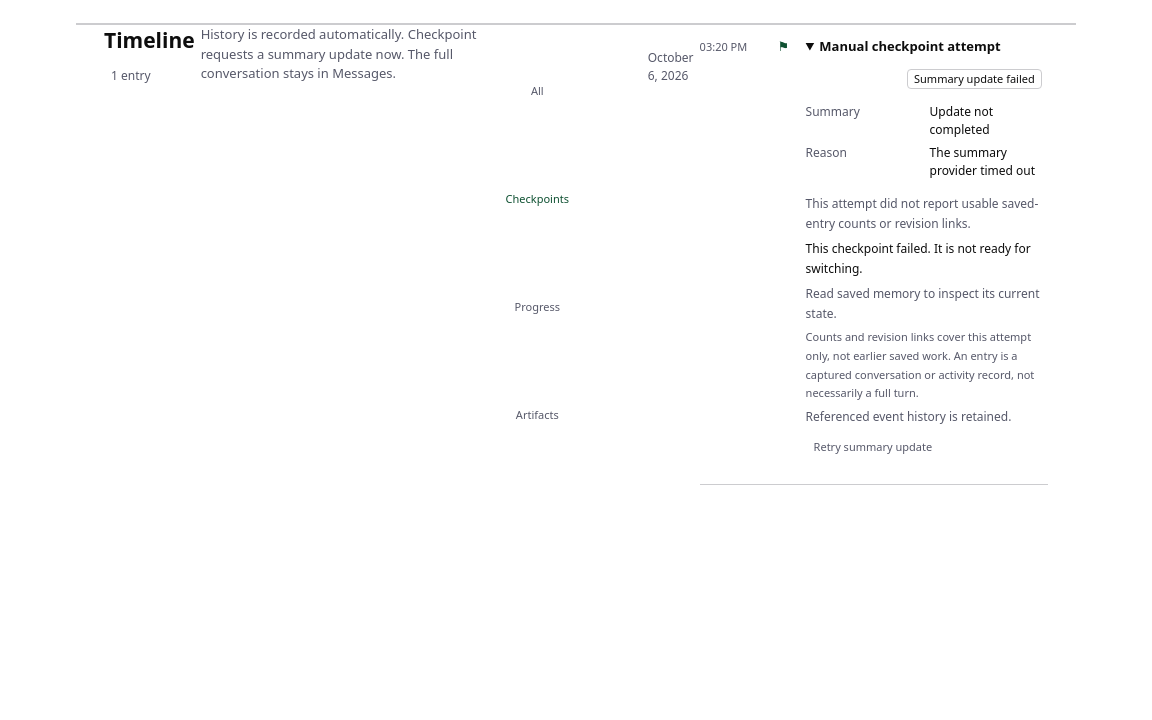
Test: keeps saved records and makes retry available after a transport failure
The image size is (1152, 720).
Click the button "Retry summary update" at (873, 450), box top-left (806, 438), bottom-right (940, 462)
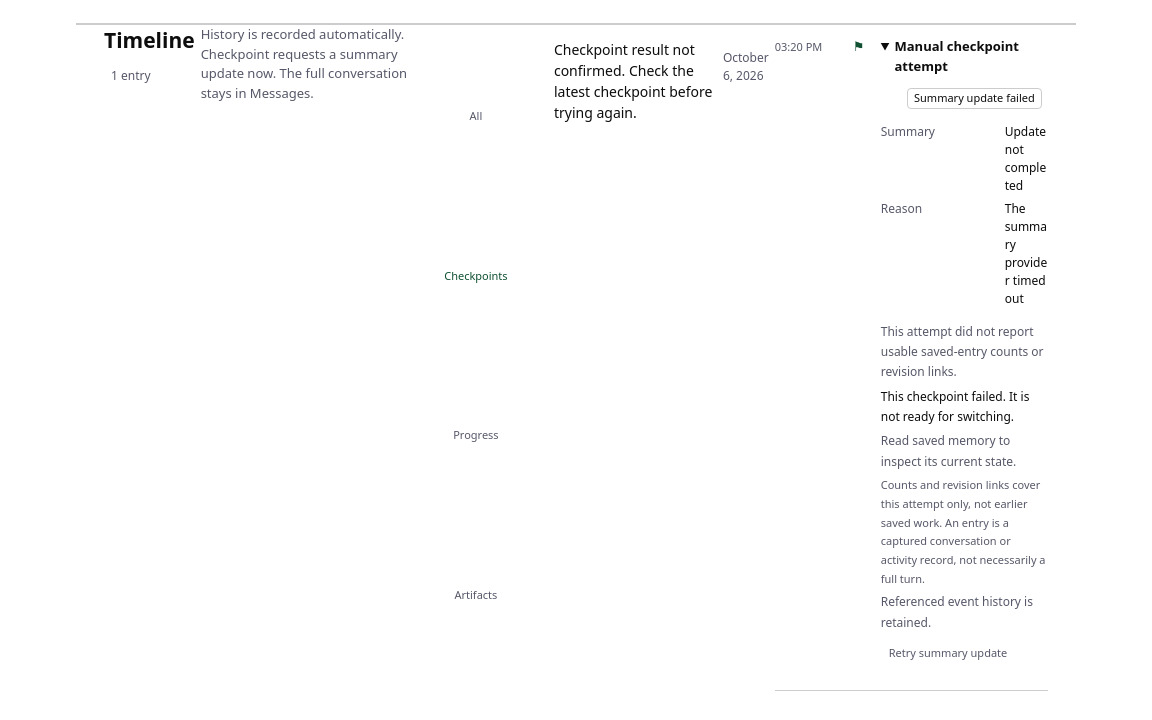
Expected: the button "Retry summary update" is enabled, top-left (881, 643), bottom-right (1015, 668)
Result: the message shows "Checkpoint result not confirmed. Check the latest checkpoint before trying again." at top-left (554, 40), bottom-right (712, 122)
